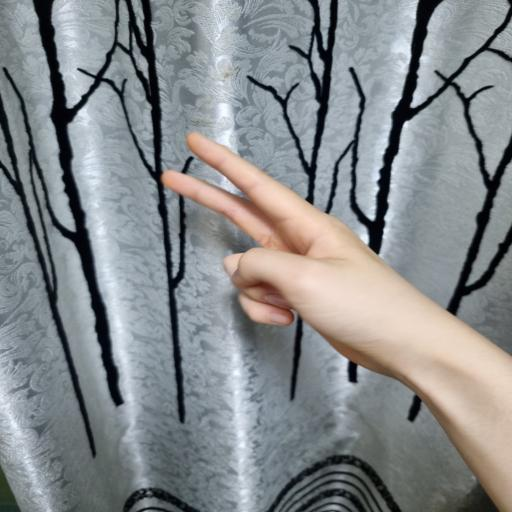Scissors: (160, 135, 512, 512)
